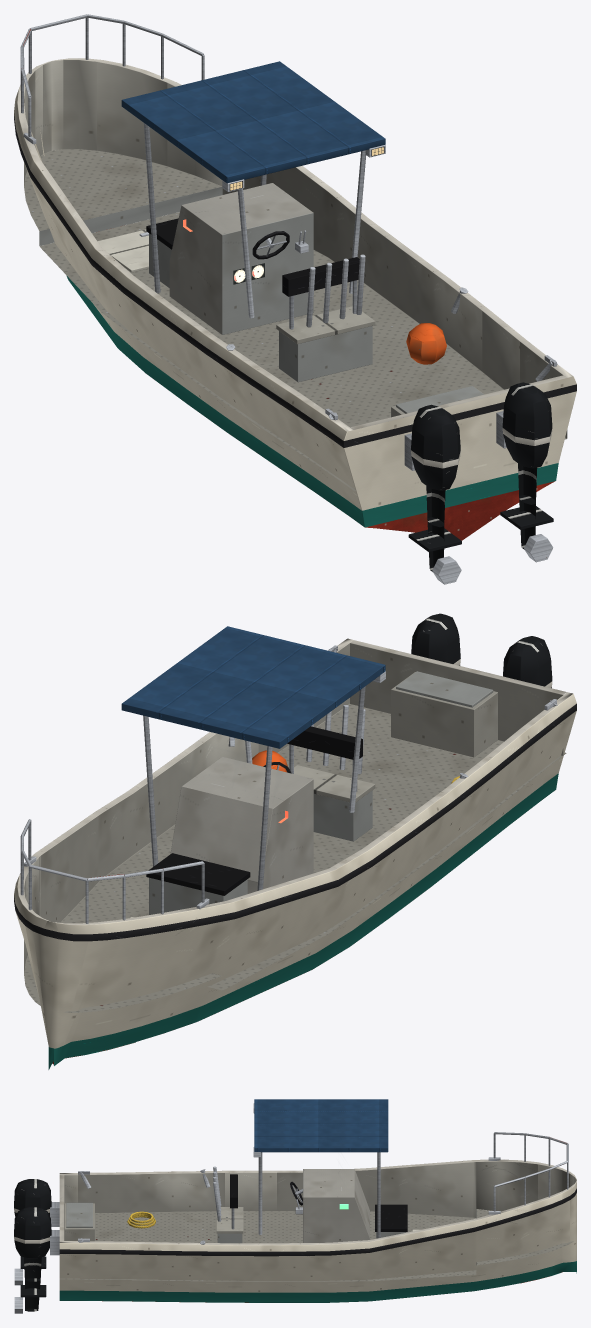
Rendered from skiff.glb.
3 views of the same model, one above another, from view 1: azimuth 30°, elevation 25°; view 2: azimuth 150°, elevation 25°; view 3: azimuth 270°, elevation 25° (orthographic). The views are drawn at different scales.
Parts seen in each view (by area): view 1: boat; view 2: boat; view 3: boat.
Boxes of the visible parts, x1=… form: boat: x1=14, y1=14, x2=576, y2=584; boat: x1=14, y1=613, x2=576, y2=1069; boat: x1=14, y1=1099, x2=576, y2=1313.
Size of what is drawn, in the model's own units: 2.98 by 3.18 by 9.25.
22 materials, 20 textured.
